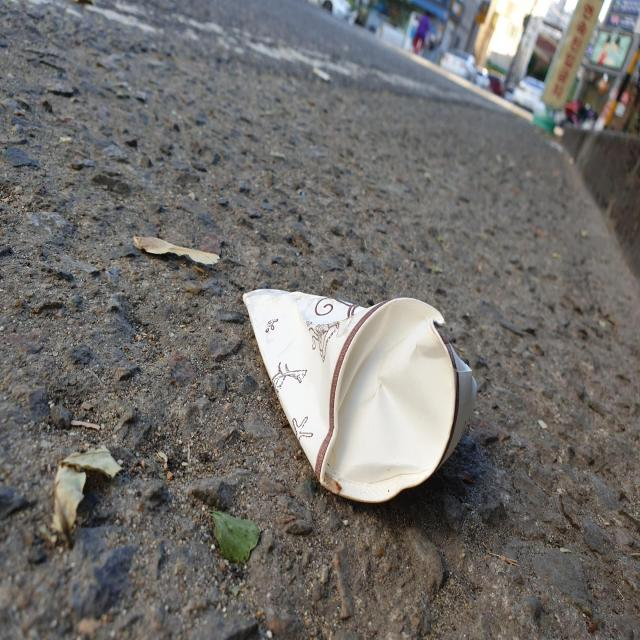paperpack: (243, 289, 477, 503)
